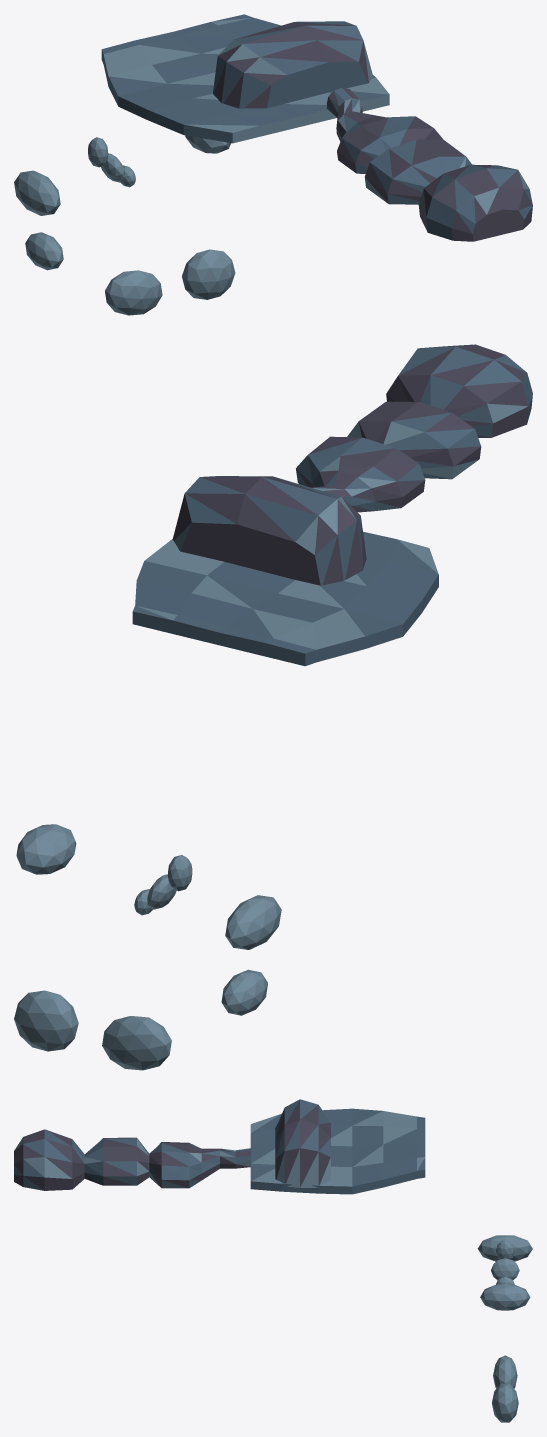
Rendered from south_basin_collision.glb.
3 views of the same model, one above another, from view 1: azimuth 30°, elevation 25°; view 2: azimuth 150°, elevation 25°; view 3: azimuth 270°, elevation 25° (orthographic). The views are drawn at different scales.
Visible parts, largest first — view 1: Hushcap Caverns shell, South Basin shelf, South Basin blind ridge, South Basin ice fin.007, South Basin ice fin.006, South Basin ice fin.003, South Basin ice fin.005, South Basin ice fin.004, South Basin ice fin, South Basin ice fin.001; view 2: South Basin shelf, Hushcap Caverns shell, South Basin blind ridge, South Basin ice fin.007, South Basin ice fin.006, South Basin ice fin.004, South Basin ice fin.003, South Basin ice fin.005; view 3: Hushcap Caverns shell, South Basin shelf, South Basin blind ridge, South Basin ice fin.004, South Basin ice fin.003, South Basin ice fin.007, South Basin ice fin.006, South Basin ice fin.001.
Boxes of the visible parts, x1=… form: Hushcap Caverns shell: x1=326, y1=88, x2=532, y2=241; South Basin shelf: x1=101, y1=14, x2=389, y2=143; South Basin blind ridge: x1=213, y1=21, x2=372, y2=108; South Basin ice fin.007: x1=182, y1=249, x2=235, y2=299; South Basin ice fin.006: x1=105, y1=270, x2=162, y2=315; South Basin ice fin.003: x1=14, y1=170, x2=60, y2=215; South Basin ice fin.005: x1=25, y1=232, x2=63, y2=270; South Basin ice fin.004: x1=185, y1=135, x2=231, y2=153; South Basin ice fin: x1=88, y1=137, x2=108, y2=167; South Basin ice fin.001: x1=101, y1=153, x2=125, y2=182; South Basin shelf: x1=132, y1=531, x2=438, y2=666; Hushcap Caverns shell: x1=296, y1=344, x2=532, y2=512; South Basin blind ridge: x1=172, y1=476, x2=366, y2=585; South Basin ice fin.007: x1=14, y1=990, x2=78, y2=1051; South Basin ice fin.006: x1=102, y1=1016, x2=171, y2=1070; South Basin ice fin.004: x1=16, y1=824, x2=76, y2=874; South Basin ice fin.003: x1=225, y1=895, x2=281, y2=949; South Basin ice fin.005: x1=221, y1=969, x2=267, y2=1015; Hushcap Caverns shell: x1=14, y1=1129, x2=250, y2=1190; South Basin shelf: x1=250, y1=1108, x2=425, y2=1194; South Basin blind ridge: x1=275, y1=1099, x2=330, y2=1187; South Basin ice fin.004: x1=480, y1=1283, x2=530, y2=1310; South Basin ice fin.003: x1=477, y1=1235, x2=532, y2=1261; South Basin ice fin.007: x1=492, y1=1383, x2=518, y2=1422; South Basin ice fin.006: x1=493, y1=1355, x2=517, y2=1388; South Basin ice fin.001: x1=491, y1=1258, x2=519, y2=1279.
Size of the model in its own units: 60.73 by 103 by 169.
